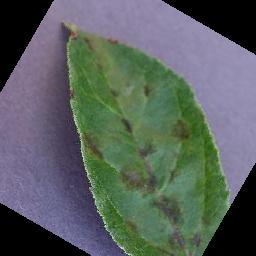apple healthy: (60, 20, 231, 255)
